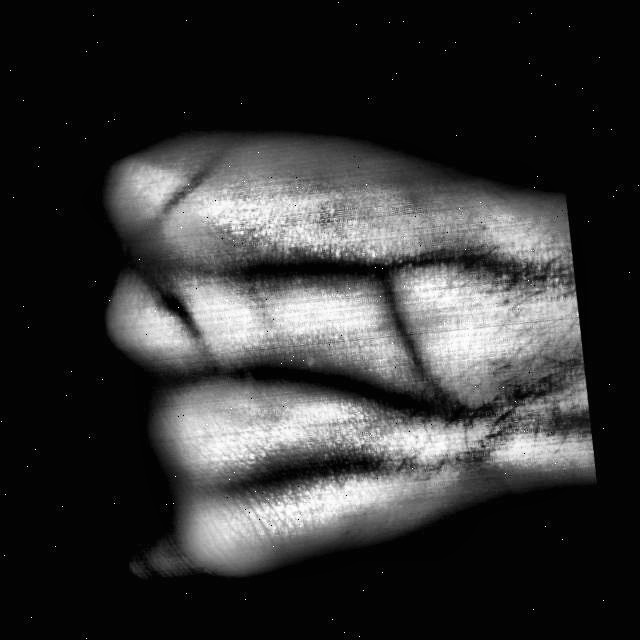Vein: (271, 347, 456, 427)
